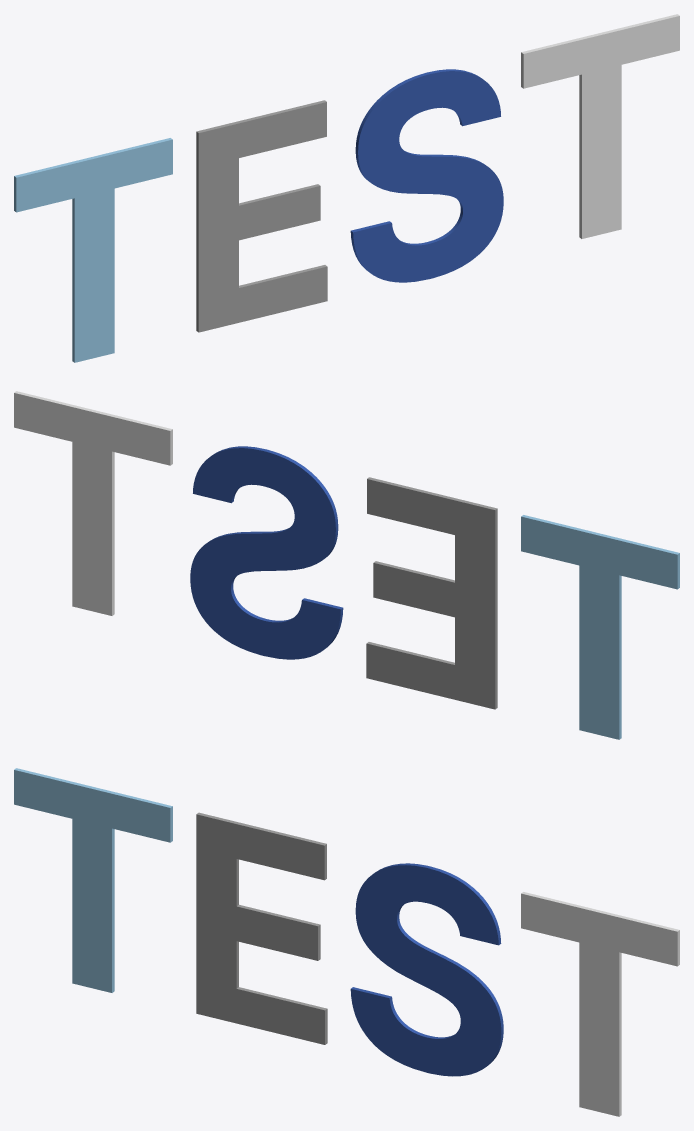
File: Part Studio 1.obj
3 renders of one model, top to bottom at view 1: azimuth 30°, elevation 25°; view 2: azimuth 150°, elevation 25°; view 3: azimuth 330°, elevation 25°, orthographic.
Visible parts, largest first — view 1: mesh71, mesh29, mesh5, mesh15, mesh20; view 2: mesh72, mesh30, mesh6, mesh16, mesh20; view 3: mesh71, mesh29, mesh15, mesh5.
Part boxes in pixels (left/top/right/bottom): mesh71: left=353, top=71, right=503, bottom=282; mesh29: left=198, top=102, right=327, bottom=332; mesh5: left=16, top=139, right=172, bottom=362; mesh15: left=523, top=16, right=679, bottom=238; mesh20: left=196, top=132, right=198, bottom=332; mesh72: left=190, top=448, right=340, bottom=659; mesh30: left=366, top=479, right=495, bottom=709; mesh6: left=521, top=516, right=677, bottom=739; mesh16: left=14, top=393, right=170, bottom=615; mesh20: left=495, top=509, right=497, bottom=709; mesh71: left=350, top=865, right=501, bottom=1076; mesh29: left=196, top=814, right=324, bottom=1044; mesh15: left=521, top=893, right=677, bottom=1116; mesh5: left=14, top=770, right=170, bottom=992.
Size of the model in its own units: 0.1596 by 0.0471 by 0.001.
